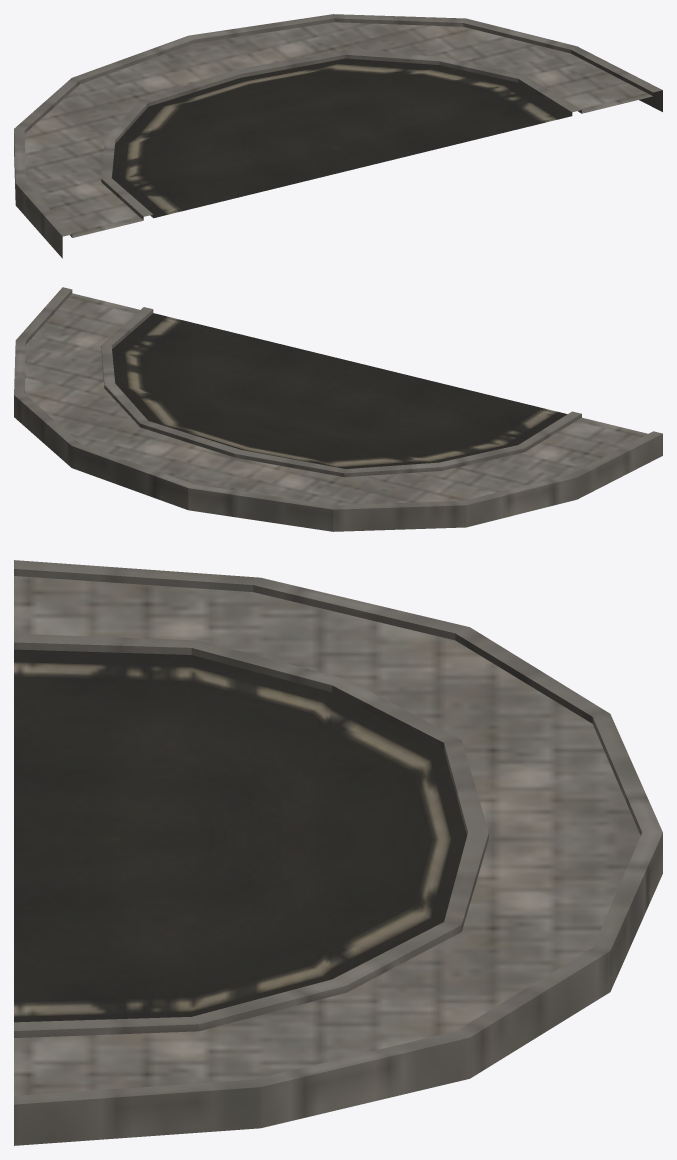
The model's file is RoadEndB.obj.
3 views of the same model, one above another, from view 1: azimuth 30°, elevation 25°; view 2: azimuth 150°, elevation 25°; view 3: azimuth 270°, elevation 25° (orthographic). The views are drawn at different scales.
Parts seen in each view (by area): view 1: 7_Road-End-B; view 2: 7_Road-End-B; view 3: 7_Road-End-B.
Part boxes in pixels (<box>): 7_Road-End-B: <box>14,14,662,258</box>; 7_Road-End-B: <box>14,287,662,531</box>; 7_Road-End-B: <box>14,560,662,1145</box>.
Size of the model in its own units: 0.6196 by 0.0219 by 0.312.
1 material, 1 textured.
